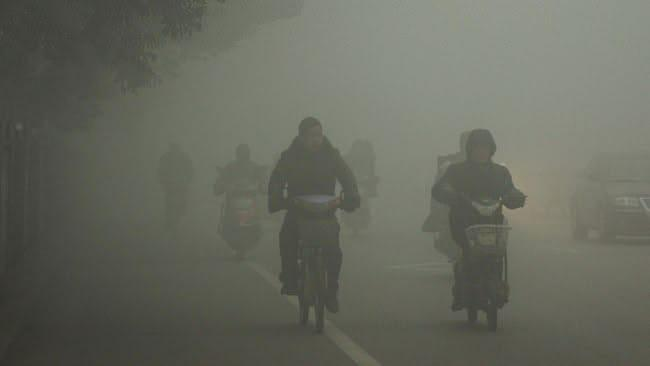Deteksi-Objek-Citra-Berasap: (0, 0, 650, 366)
Kendaraan: (449, 190, 514, 334), (285, 193, 346, 334), (568, 177, 650, 246), (217, 186, 263, 258)
Manusia: (268, 116, 361, 313), (430, 128, 527, 310), (214, 143, 268, 234), (340, 138, 380, 230), (157, 143, 195, 227)
Vegetasi: (0, 0, 222, 106)
